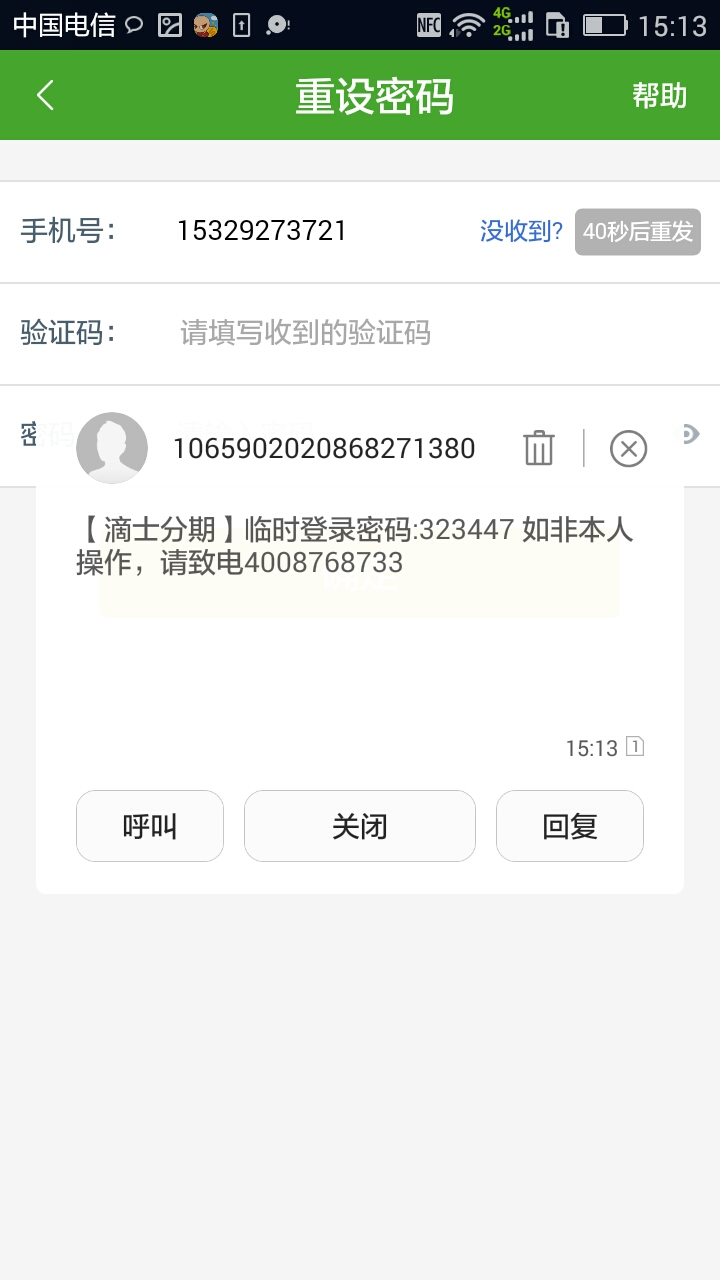button: (240, 781, 482, 869), (490, 780, 654, 871), (68, 781, 233, 869)
imgbutton: (513, 414, 563, 480), (600, 425, 659, 477)
textview: (1, 179, 720, 390)
